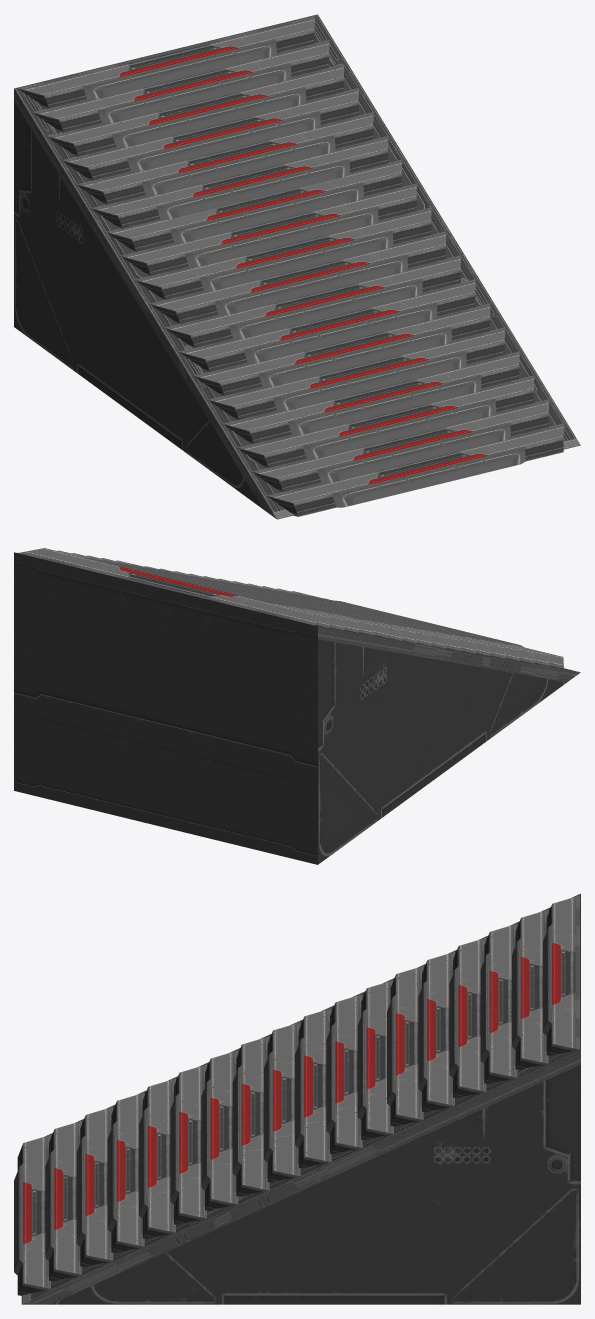
File: Platform_Stairs_4WideTall.gltf
The picture shows the model from 3 angles, top to bottom: view 1: azimuth 30°, elevation 25°; view 2: azimuth 150°, elevation 25°; view 3: azimuth 270°, elevation 25°; orthographic projection. The views are drawn at different scales.
Visible parts, largest first — view 1: Platform_Stairs_4WideTall; view 2: Platform_Stairs_4WideTall; view 3: Platform_Stairs_4WideTall.
Boxes of the visible parts, box(x1,y1,x2,y2) form: Platform_Stairs_4WideTall: box(14, 14, 580, 519); Platform_Stairs_4WideTall: box(14, 548, 580, 864); Platform_Stairs_4WideTall: box(14, 893, 580, 1304).
Size of the model in its own units: 4 by 3.01 by 6.08.
Materials: 2 (2 with a texture image).
